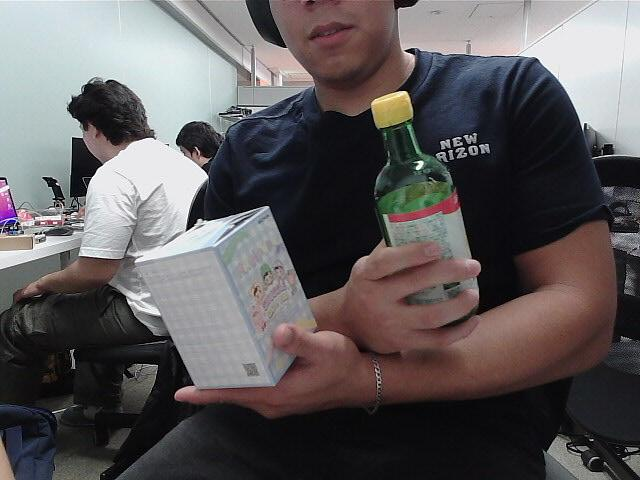Blind_box: (139, 198, 322, 395)
Lemon_sapporo: (355, 95, 487, 336)
